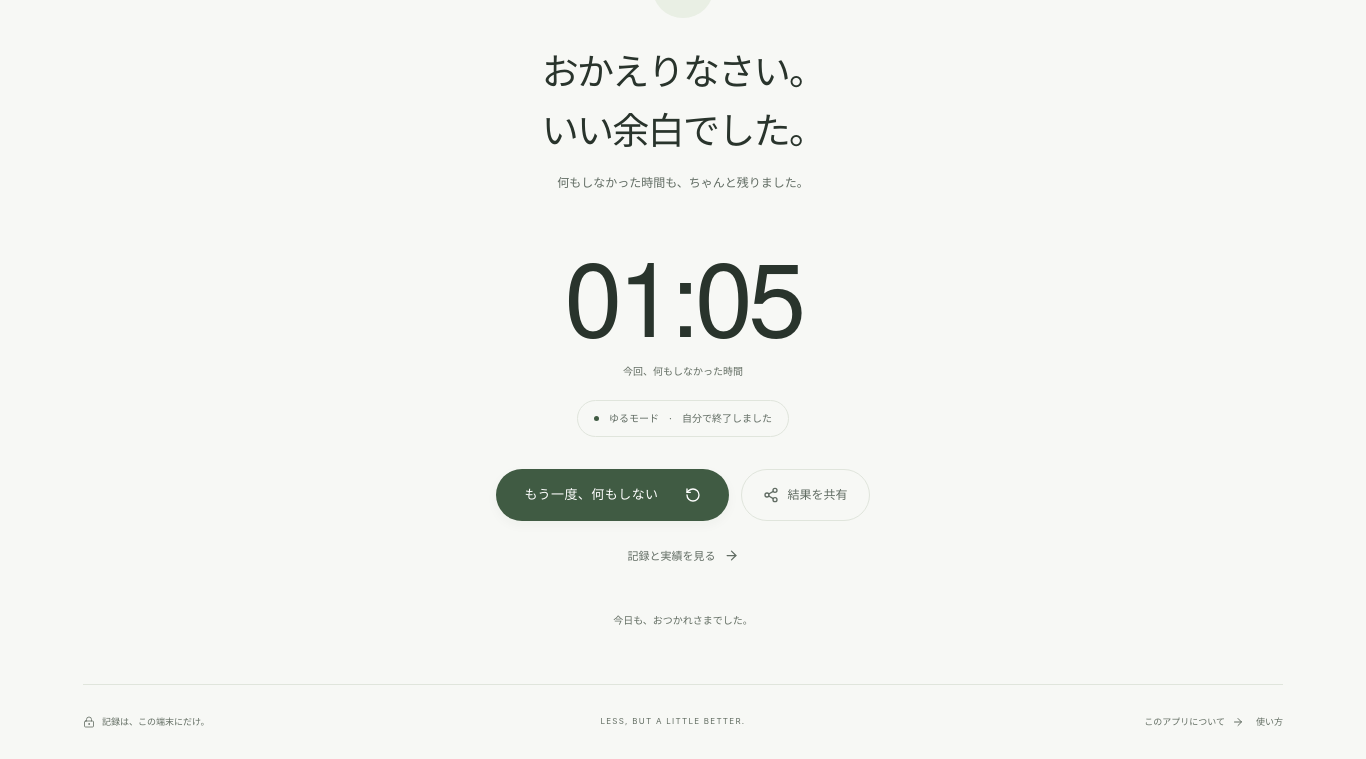
Test: result sharing › shares the actual result with the native API and records only a successful native share
(page scrolled)
Step 1. Click the button "結果を共有" → (805, 495), box [741,469,870,521]
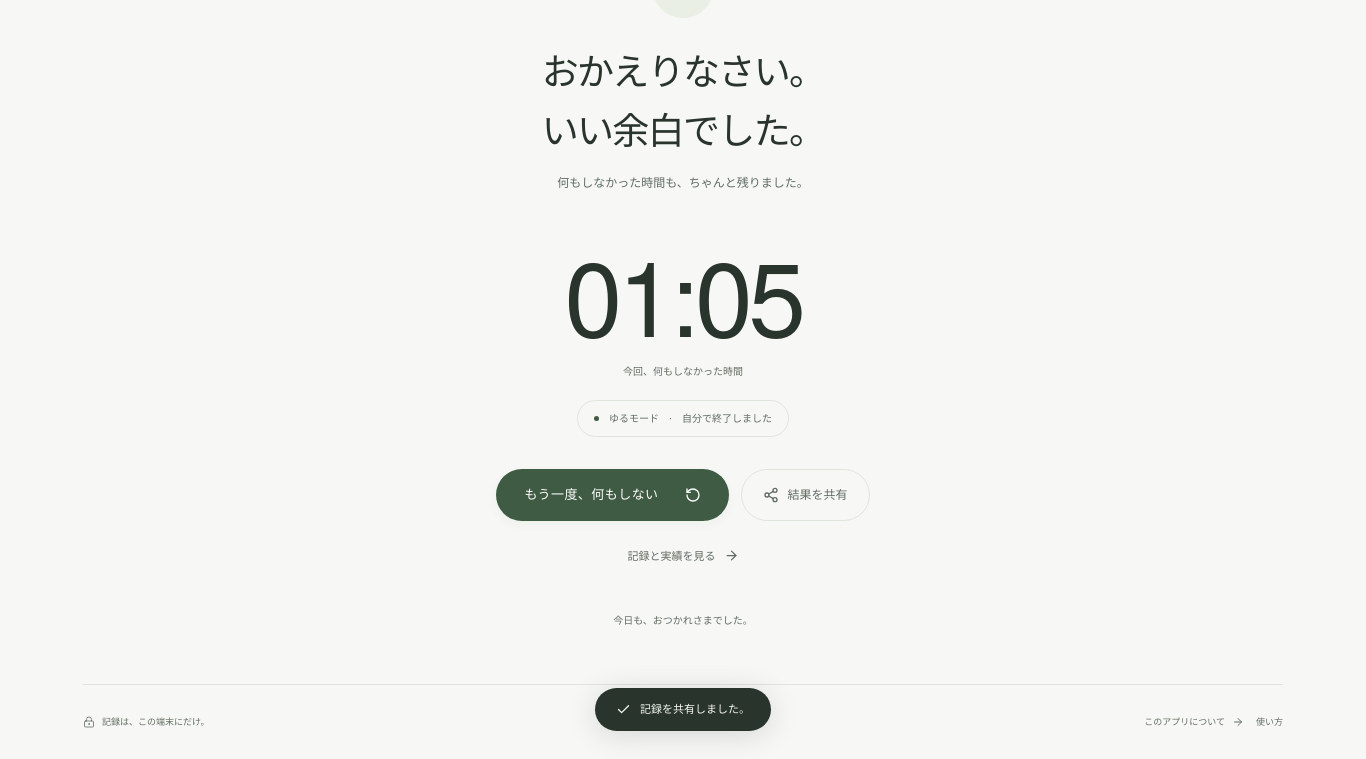
Check: the text "記録を共有しました。" is shown, box [595,688,771,731]
